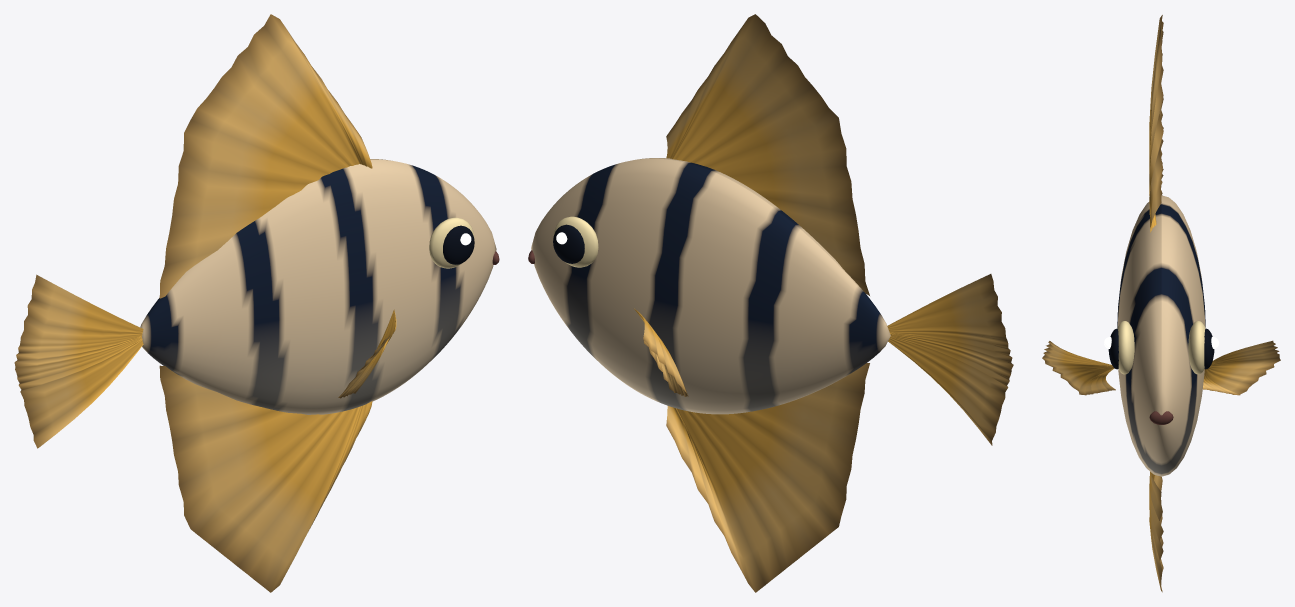
File: angel.glb
The picture shows the model from 3 angles, left to right: view 1: azimuth 30°, elevation 25°; view 2: azimuth 150°, elevation 25°; view 3: azimuth 270°, elevation 25°; orthographic projection.
Visible parts, largest first — view 1: Body, FinDorsalMembrane, FinVentralMembrane, TailMembrane, EyeL, FinPectoralLMembrane; view 2: Body, FinVentralMembrane, FinDorsalMembrane, TailMembrane, EyeR, FinPectoralRMembrane; view 3: Body, FinPectoralRMembrane, FinDorsalMembrane, FinPectoralLMembrane, FinVentralMembrane, EyeR, EyeL.
Boxes of the visible parts, x1,y1,x2,y2 form: Body: [140, 159, 496, 414]; FinDorsalMembrane: [159, 14, 372, 298]; FinVentralMembrane: [159, 365, 372, 592]; TailMembrane: [14, 274, 143, 448]; EyeL: [429, 217, 474, 268]; FinPectoralLMembrane: [338, 309, 396, 398]; Body: [531, 158, 890, 414]; FinVentralMembrane: [666, 363, 869, 592]; FinDorsalMembrane: [666, 14, 869, 295]; TailMembrane: [887, 274, 1013, 445]; EyeR: [553, 216, 598, 267]; FinPectoralRMembrane: [634, 308, 688, 396]; Body: [1117, 195, 1205, 476]; FinPectoralRMembrane: [1202, 340, 1280, 395]; FinDorsalMembrane: [1149, 15, 1163, 232]; FinPectoralLMembrane: [1042, 341, 1115, 395]; FinVentralMembrane: [1149, 471, 1163, 592]; EyeR: [1188, 321, 1218, 374]; EyeL: [1104, 321, 1134, 374].
Size of the model in its own units: 2.21 by 2.54 by 0.9488.
